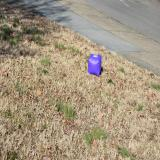cube: (88, 54, 102, 76)
